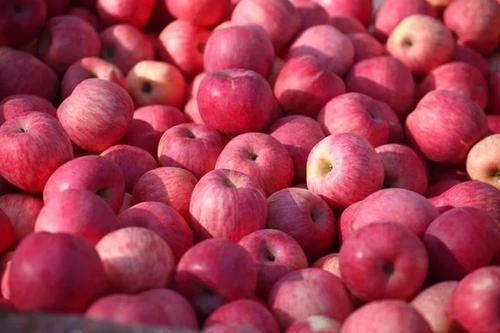apple: (2, 229, 110, 313), (337, 221, 428, 301), (407, 88, 489, 166), (1, 107, 75, 193), (305, 133, 384, 209), (54, 78, 136, 149), (267, 264, 354, 329), (265, 185, 338, 259), (176, 239, 259, 304), (425, 204, 497, 278), (189, 169, 266, 235), (317, 91, 405, 147), (212, 132, 295, 191), (197, 70, 275, 132), (272, 55, 347, 116), (201, 24, 276, 79), (156, 122, 223, 174), (124, 59, 186, 110)
